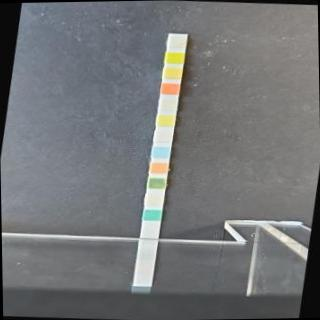mark: (152, 144, 170, 157), (163, 67, 182, 79), (156, 114, 174, 126), (161, 82, 179, 94), (167, 35, 185, 47), (144, 208, 161, 220), (150, 160, 167, 172), (158, 99, 176, 110), (165, 51, 182, 62), (149, 176, 164, 188), (146, 193, 162, 204), (155, 130, 170, 140)
